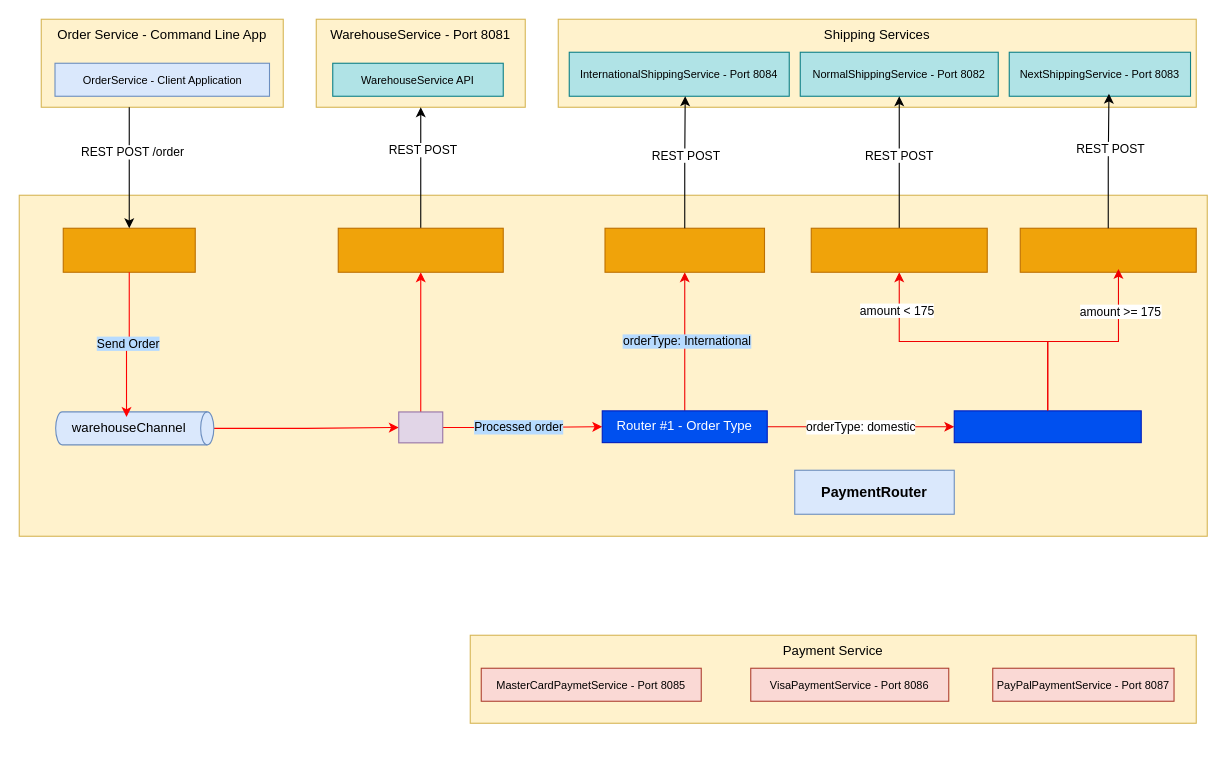
Image size: 1227x765. Some labels were removed from this diagram. Each missing label, with the box of its shape:
Entrerprise Service Bus - Port 8080: (18, 194, 1207, 536)
InternationalShippingActivator: (604, 227, 765, 272)
NextDayShippingActivator: (1019, 227, 1196, 272)
NormalShippingActivator: (810, 227, 987, 272)
OrderController: (62, 227, 195, 272)
Router #2 - Domestic Amount: (953, 410, 1141, 443)
WareHouseActivator: (337, 227, 503, 272)
